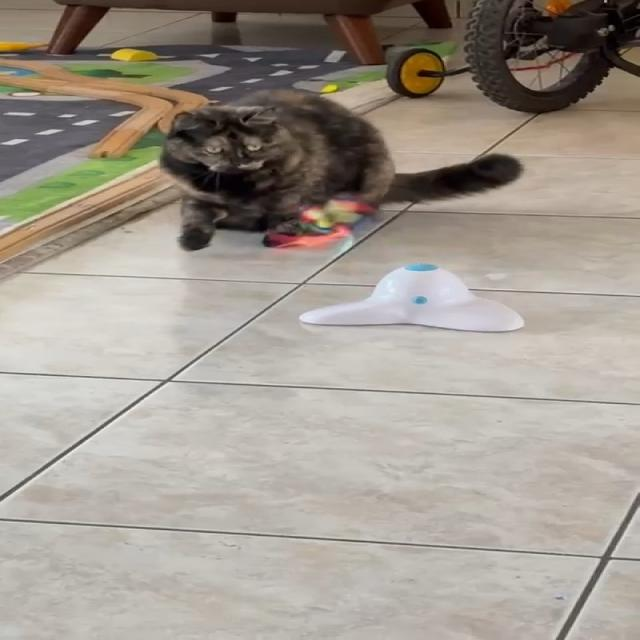authorized: (157, 88, 523, 252)
